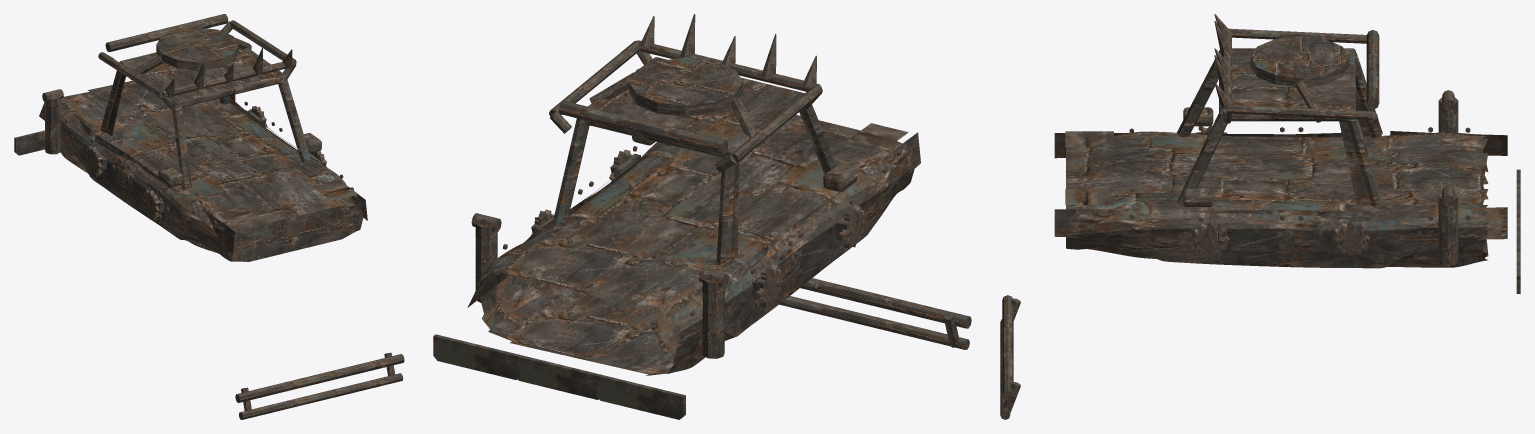
The model's file is titan_monster.glb.
3 renders of one model, left to right at view 1: azimuth 30°, elevation 25°; view 2: azimuth 150°, elevation 25°; view 3: azimuth 270°, elevation 25°, orthographic. The views are drawn at different scales.
Visible parts, largest first — view 1: kit-full-plating-painted-metal, kit-bull-bar-painted-metal, kit-turret-mount-painted-metal, kit-cage-painted-metal, warlord-crossbar, kit-stack-0-painted-metal, kit-scrapper-painted-metal, kit-raider-painted-metal, kit-crown-painted-metal, kit-plate-2-painted-metal, kit-saw-1-guard-painted-metal, kit-saw-0-guard-painted-metal; view 2: kit-full-plating-painted-metal, kit-turret-mount-painted-metal, kit-bull-bar-painted-metal, kit-cage-painted-metal, warlord-crossbar, kit-stack-0-painted-metal, kit-raider-painted-metal, kit-crown-painted-metal, kit-scrapper-painted-metal, kit-stack-1-painted-metal, kit-saw-1-guard-painted-metal, kit-saw-0-guard-painted-metal (+3 smaller); view 3: kit-full-plating-painted-metal, kit-turret-mount-painted-metal, kit-cage-painted-metal, kit-raider-painted-metal, kit-bull-bar-painted-metal, kit-scrapper-painted-metal, kit-stack-1-painted-metal, kit-plate-0-painted-metal, warlord-crossbar, kit-plate-1-painted-metal, kit-crown-painted-metal, kit-saw-0-painted-metal (+3 smaller).
Boxes of the visible parts, x1,y1,x2,y2 form: kit-full-plating-painted-metal: [14, 47, 363, 261]; kit-bull-bar-painted-metal: [235, 352, 404, 419]; kit-turret-mount-painted-metal: [130, 27, 251, 80]; kit-cage-painted-metal: [98, 20, 296, 109]; warlord-crossbar: [105, 14, 228, 51]; kit-stack-0-painted-metal: [42, 89, 63, 154]; kit-scrapper-painted-metal: [91, 101, 318, 194]; kit-raider-painted-metal: [70, 135, 172, 227]; kit-crown-painted-metal: [165, 47, 292, 97]; kit-plate-2-painted-metal: [175, 208, 234, 253]; kit-saw-1-guard-painted-metal: [141, 189, 164, 220]; kit-saw-0-guard-painted-metal: [84, 146, 107, 176]; kit-full-plating-painted-metal: [433, 57, 915, 419]; kit-turret-mount-painted-metal: [589, 57, 756, 137]; kit-bull-bar-painted-metal: [779, 278, 971, 349]; kit-cage-painted-metal: [549, 40, 822, 171]; warlord-crossbar: [559, 101, 728, 153]; kit-stack-0-painted-metal: [698, 268, 728, 358]; kit-raider-painted-metal: [511, 208, 862, 327]; kit-crown-painted-metal: [640, 14, 816, 87]; kit-scrapper-painted-metal: [539, 146, 853, 279]; kit-stack-1-painted-metal: [471, 213, 501, 302]; kit-saw-1-guard-painted-metal: [835, 205, 865, 248]; kit-saw-0-guard-painted-metal: [752, 264, 782, 307]; kit-full-plating-painted-metal: [1065, 48, 1520, 293]; kit-turret-mount-painted-metal: [1250, 36, 1349, 122]; kit-cage-painted-metal: [1222, 28, 1377, 124]; kit-raider-painted-metal: [1178, 230, 1426, 252]; kit-bull-bar-painted-metal: [1000, 295, 1020, 419]; kit-scrapper-painted-metal: [1189, 126, 1378, 242]; kit-stack-1-painted-metal: [1438, 186, 1458, 266]; kit-plate-0-painted-metal: [1054, 209, 1172, 241]; warlord-crossbar: [1366, 30, 1379, 109]; kit-plate-1-painted-metal: [1390, 207, 1507, 240]; kit-crown-painted-metal: [1214, 14, 1233, 108]; kit-saw-0-painted-metal: [1331, 221, 1369, 256].
Bounding box in the file's own units: 2.41 × 3.57 × 5.02.
Materials: 1 (1 with a texture image).
